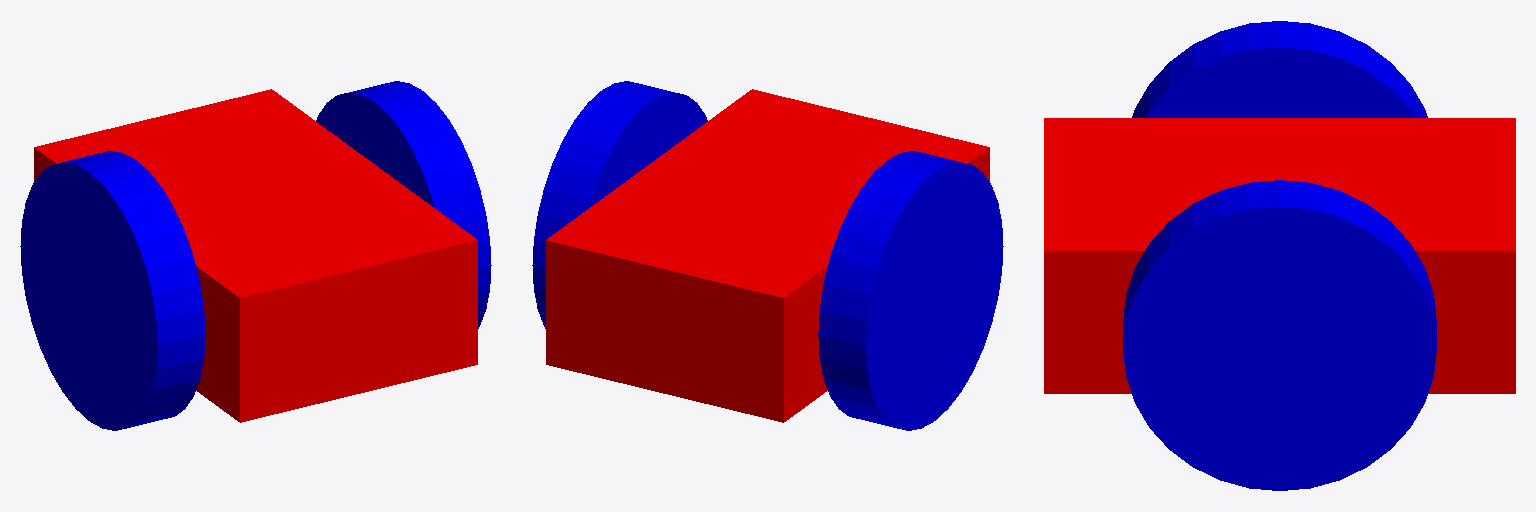
The robot description file, URDF, robot "bot":
<?xml version="1.0" ?>
<robot name="bot" xmlns:xacro="http://www.ros.org/wiki/xacro">

    <link name="base_footprint"/>

    <link name="base_link">
        <visual>
            <origin xyz="0.0 0.0 0.0" rpy="0.0 0.0 0.0"/>
            <geometry>
                <box size="0.1 0.15 0.05"/>
            </geometry>
            <material name="red">
                <color rgba="1.0 0.0 0.0 1.0"/>
            </material>
        </visual>
    </link>

    <joint name="base_joint" type="fixed">
        <origin xyz="0.0 0.0 0.15" rpy="0.0 0.0 0.0"/>
        <parent link="base_footprint"/>
        <child link="base_link"/>
    </joint>

    <link name="right_wheel_link">
        <visual>
            <origin xyz="0.0 0.0 0.0" rpy="0.0 0.0 0.0"/>
            <geometry>
                <cylinder radius="0.05" length="0.02"/>
            </geometry>
            <material name="blue">
                <color rgba="0.0 0.0 1.0 1.0"/>
            </material>
        </visual>
    </link>

    <joint name="right_wheel_joint" type="continuous">
        <origin xyz="-0.06 0.0 0.0" rpy="0.0 1.57 0.0"/>
        <parent link="base_link"/>
        <child link="right_wheel_link"/>
        <axis xyz="0.0 0.0 0.1"/>
    </joint>

    <link name="left_wheel_link">
        <visual>
            <origin xyz="0.0 0.0 0.0" rpy="0.0 0.0 0.0"/>
            <geometry>
                <cylinder radius="0.05" length="0.02"/>
            </geometry>
            <material name="blue">
                <color rgba="0.0 0.0 1.0 1.0"/>
            </material>
        </visual>
    </link>

    <joint name="left_wheel_joint" type="continuous">
        <origin xyz="0.06 0.0 0.0" rpy="0.0 1.57 0.0"/>
        <parent link="base_link"/>
        <child link="left_wheel_link"/>
        <axis xyz="0.0 0.0 0.1"/>
    </joint>

</robot>

--- What the picture shows (computed from the rendered views, not written in the file) ---
3 views of the same robot in one strip: view 1: azimuth 30°, elevation 25°; view 2: azimuth 150°, elevation 25°; view 3: azimuth 270°, elevation 25° (orthographic).
Robot: bot — 4 links, 3 joints (2 continuous, 1 fixed); root link base_footprint; default pose: every joint at zero.
Links seen in each view (by area): view 1: base_link, right_wheel_link, left_wheel_link; view 2: base_link, right_wheel_link, left_wheel_link; view 3: left_wheel_link, base_link, right_wheel_link.
Boxes of the visible links, <box> form: base_link: <box>34,89,477,422</box>; right_wheel_link: <box>20,151,205,430</box>; left_wheel_link: <box>316,81,491,328</box>; base_link: <box>546,89,989,422</box>; right_wheel_link: <box>818,151,1003,430</box>; left_wheel_link: <box>532,81,707,328</box>; left_wheel_link: <box>1123,180,1436,490</box>; base_link: <box>1044,118,1515,393</box>; right_wheel_link: <box>1132,21,1427,117</box>.
Bounding box of the posed robot: 0.1401 × 0.15 × 0.1 m (x, y, z).
Geometry: primitives only (box / cylinder / sphere), no mesh files.
